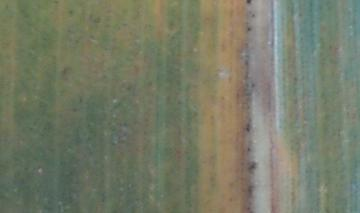tarspot: (245, 159, 257, 175), (61, 65, 74, 76), (244, 122, 251, 134), (249, 80, 257, 90), (66, 8, 74, 16), (250, 11, 257, 20), (296, 11, 303, 19), (78, 94, 83, 105), (246, 145, 252, 154), (244, 1, 254, 6), (245, 25, 252, 32)
